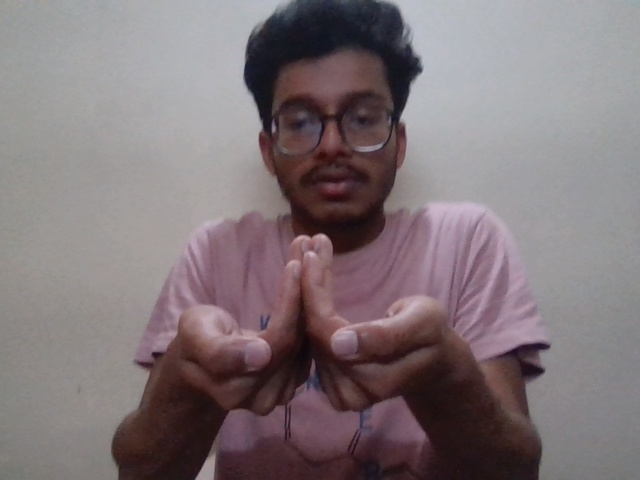tomorrow: (152, 231, 436, 417)
